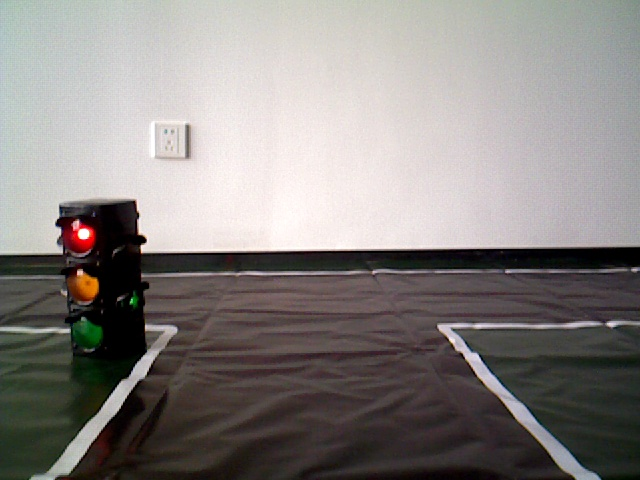red: (59, 206, 139, 361)
